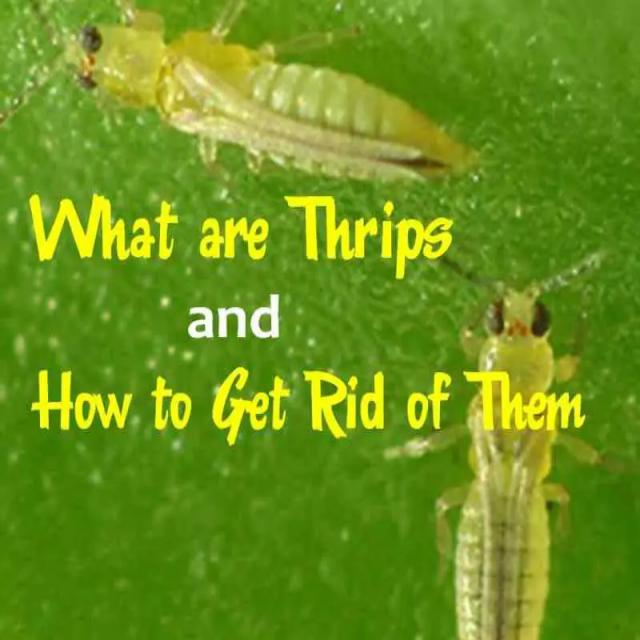Thrip-Larva-: (61, 3, 516, 212)
